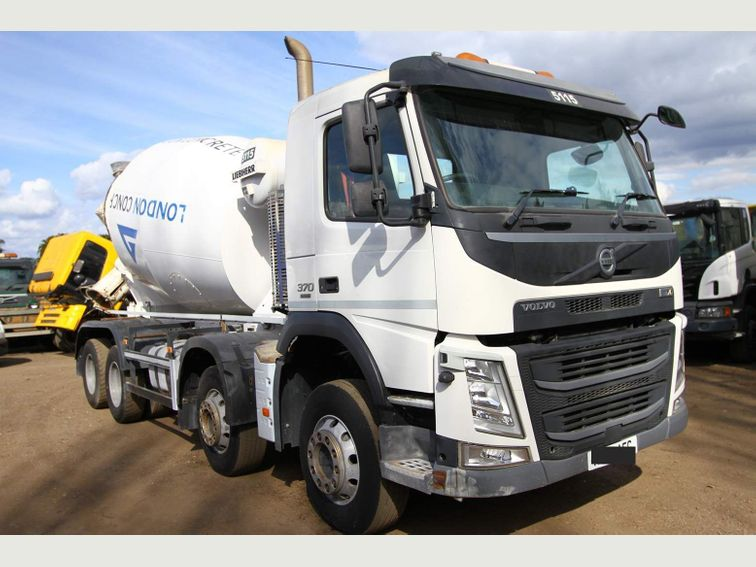Semi: (79, 36, 689, 533)
